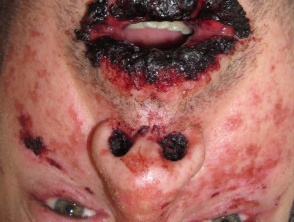SJS-TEN: (67, 0, 257, 97), (0, 99, 117, 211), (97, 105, 200, 179)
